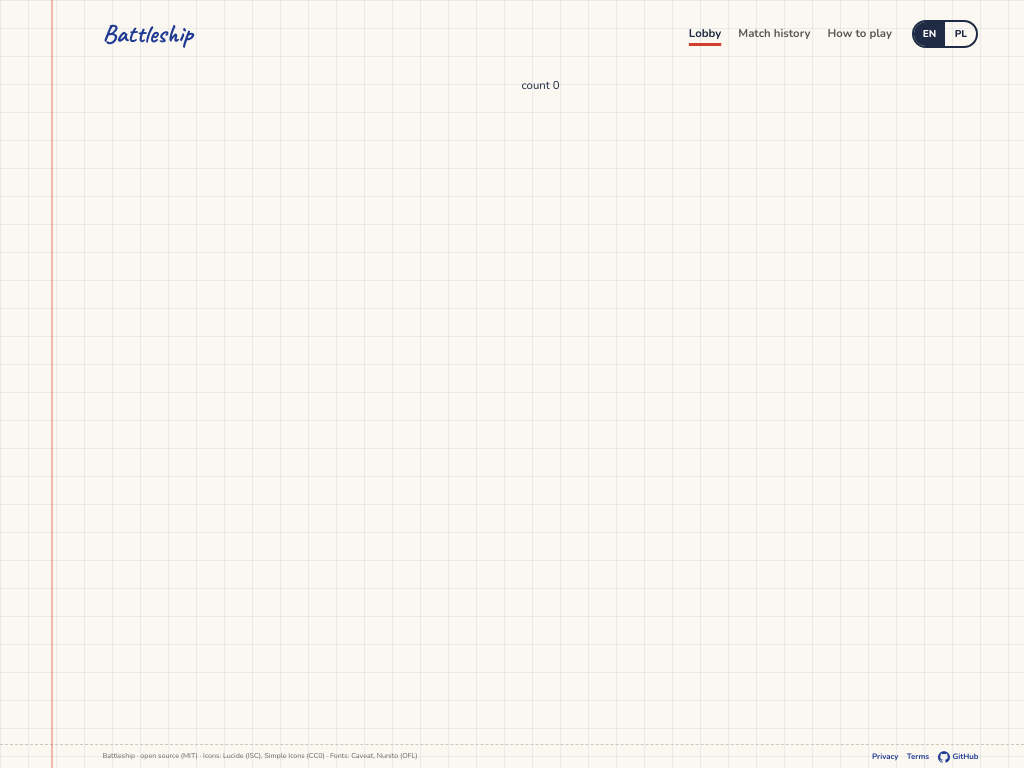
Test: przełącznik zmienia język i aria-pressed
Click the button "PL" at (961, 34), box 945,22 -> 976,46
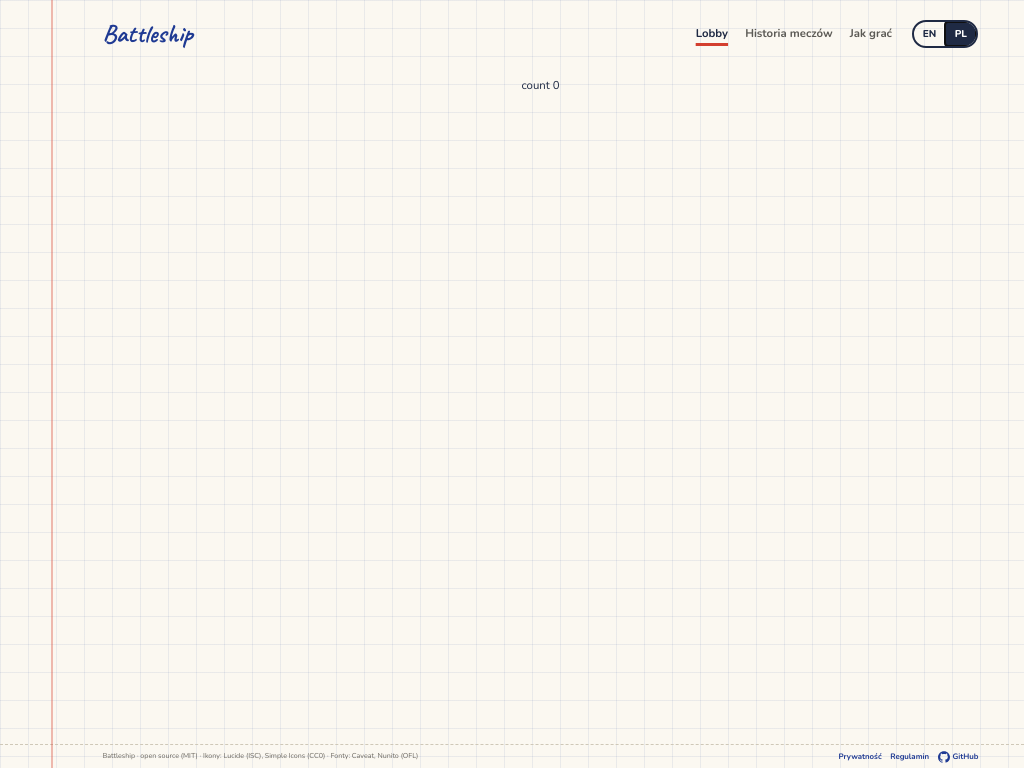
Expected: the link "Historia meczów" is shown, 745,26 -> 833,43
